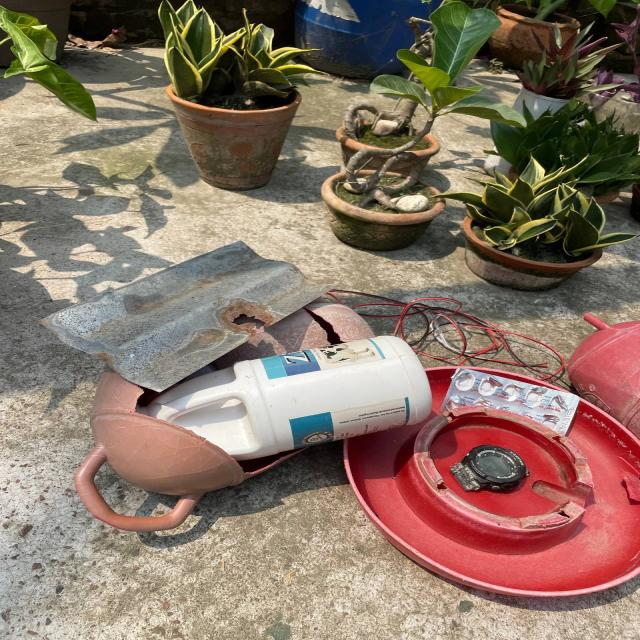Cable: (380, 268, 556, 361)
E-waste: (444, 432, 560, 492)
Medical Waste: (448, 364, 586, 441)
Metal: (44, 229, 308, 361)
Plastics: (45, 351, 439, 577), (590, 309, 640, 587)
